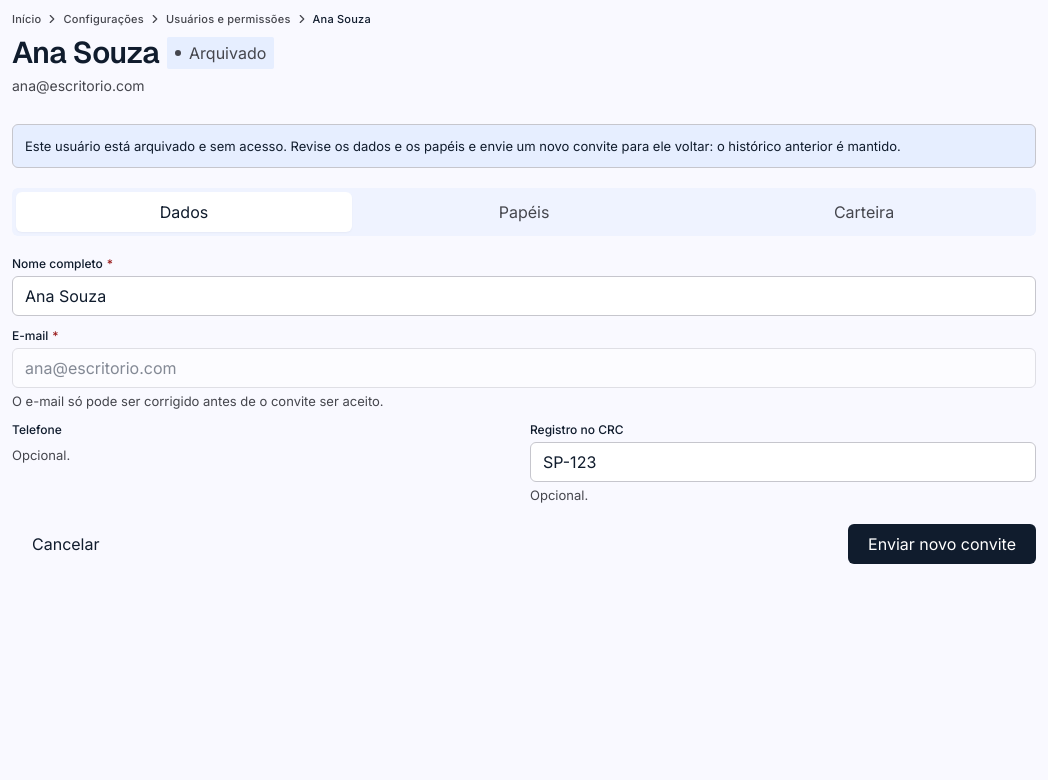
usuário arquivado › sem papel revisado não há novo convite
The width and height of the screenshot is (1048, 780).
Expected: the field labelled "Nome completo*" is shown, [12,276,1036,316]
Step 1. Click the tab "Papéis" → (524, 212), box [356,192,692,232]
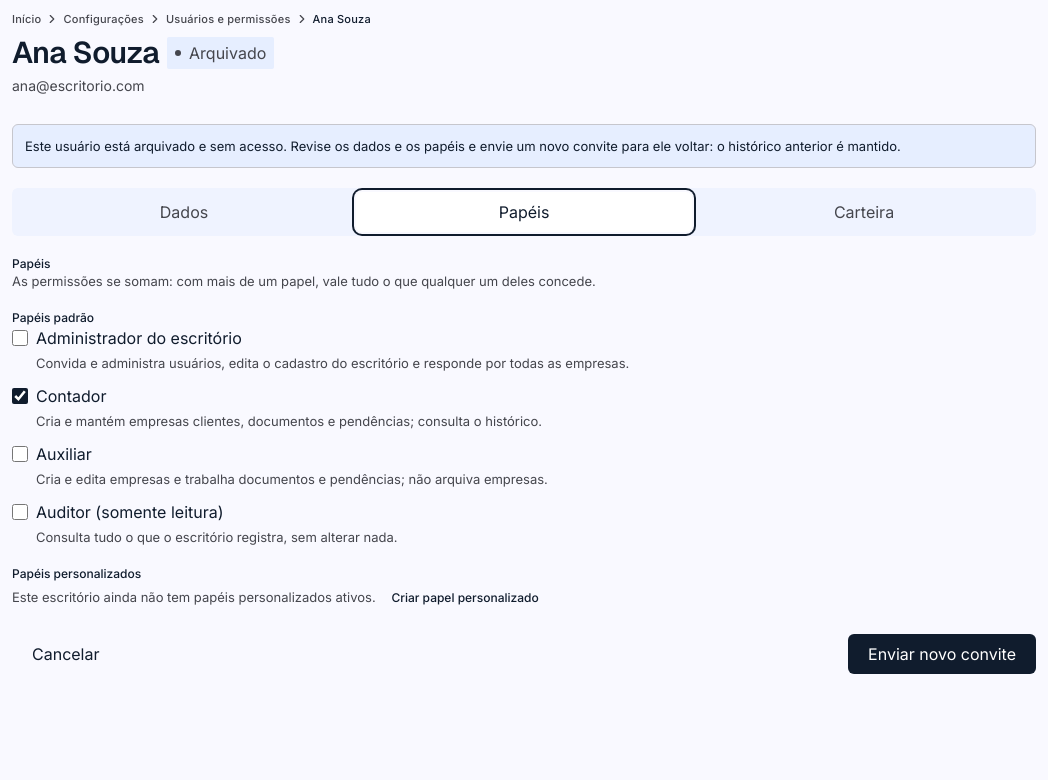
Step 2. Click the checkbox labelled "Contador" → (20, 396), box [12,388,28,404]
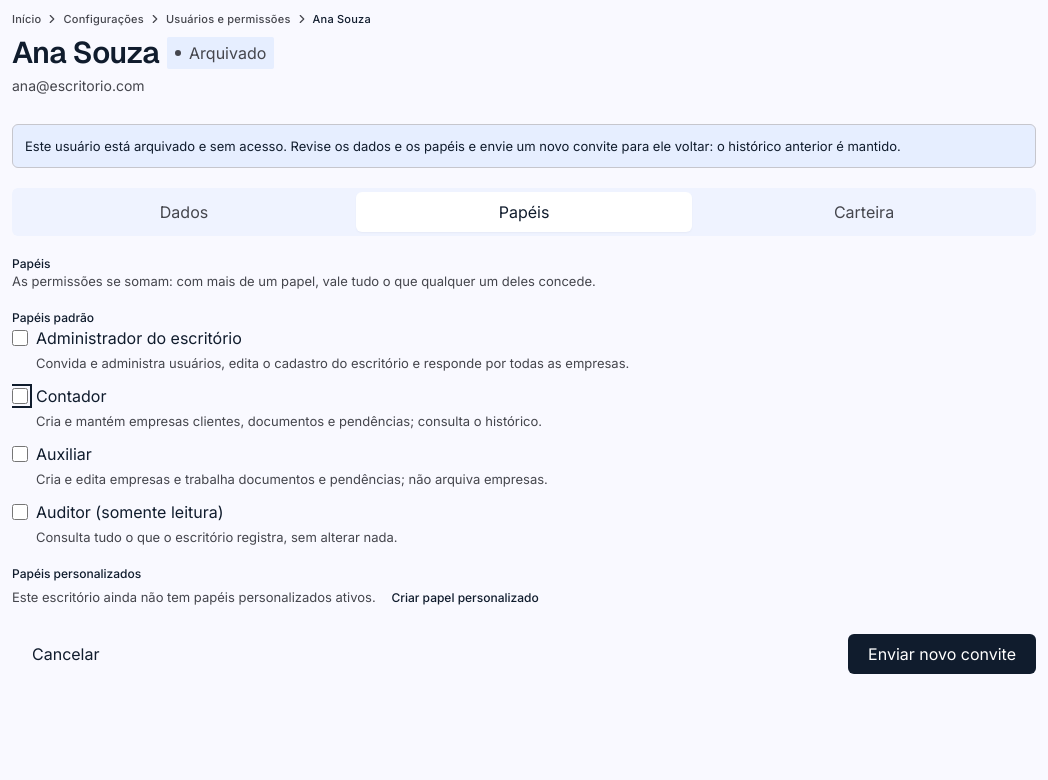
Step 3. Click the button "Enviar novo convite" → (942, 654), box [848,634,1036,674]
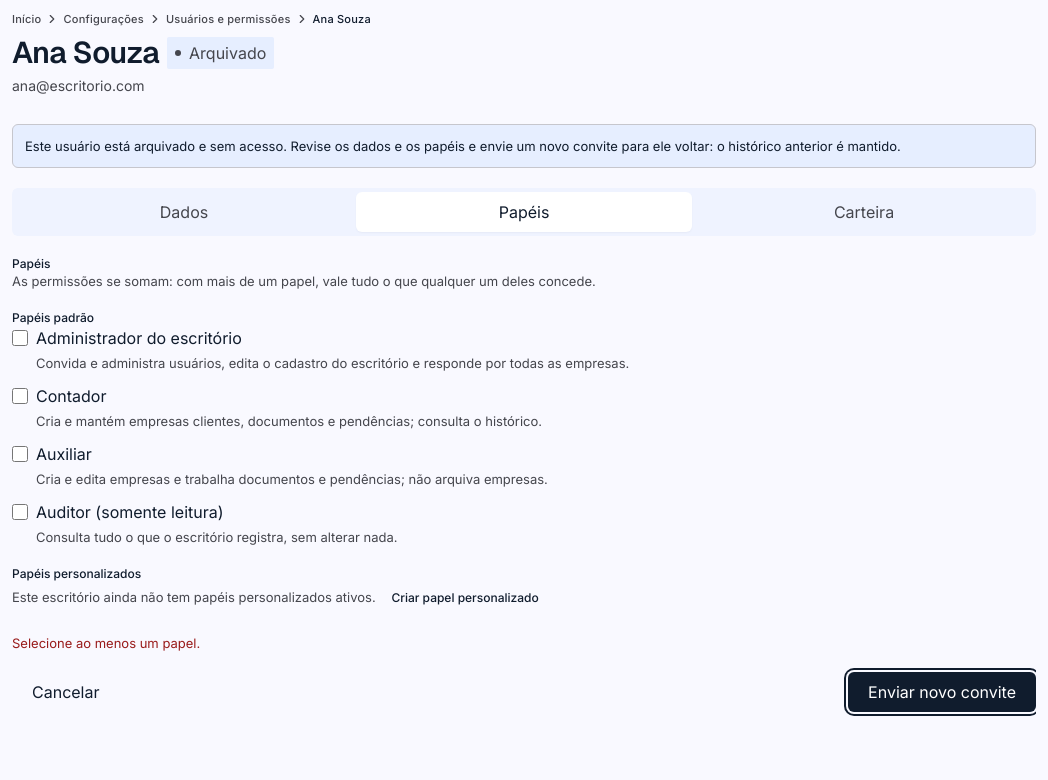
Expected: the text "Selecione ao menos um papel." is shown, [12,635,200,651]
